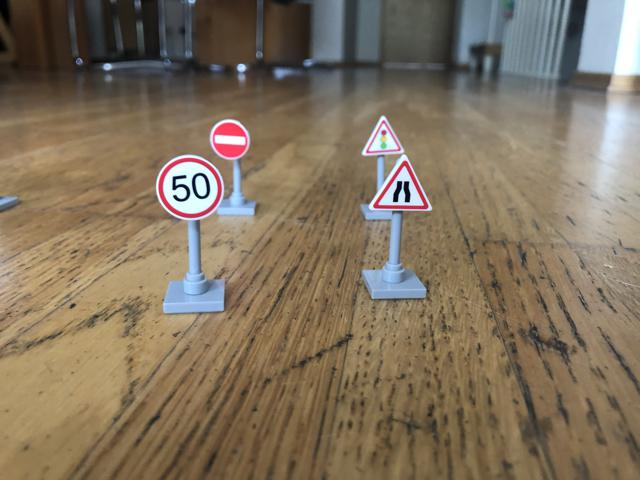lichtzeichenanlage: (358, 116, 410, 155)
tempolimit 50: (156, 154, 224, 222)
verbot der einfahrt: (210, 120, 253, 159)
verengte fahrbahn: (369, 157, 439, 213)
